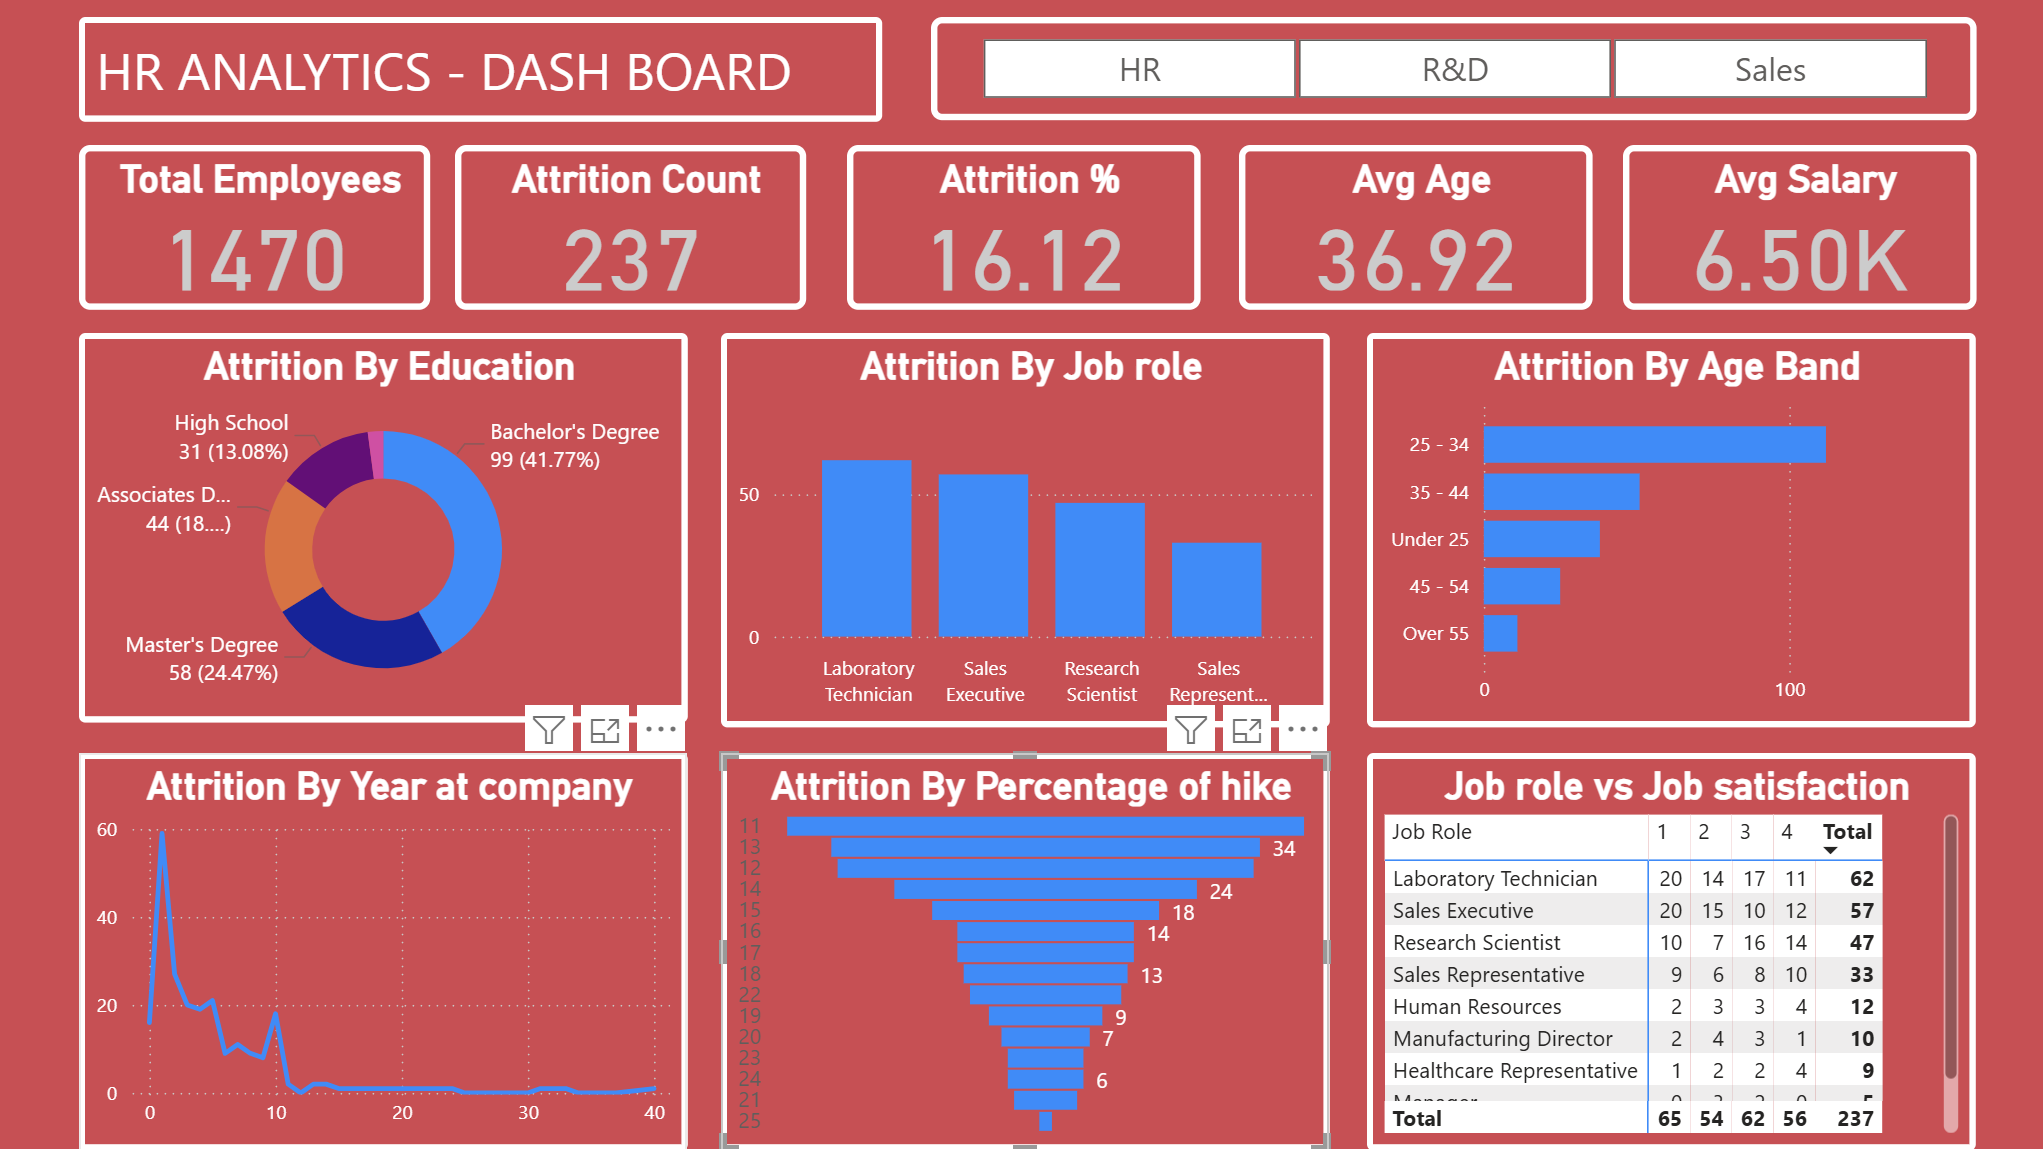

What the dashboard file says about the page in this screenshot:
{"tool":"powerbi","page":{"name":"Page 1","canvas":[1280,720],"ordinal":0},"visuals":[{"type":"card","title":"Total Employees","fields":{"Values":["Sum(Data.Employee Count)"]},"box":[49.7,90.8,219.3,102.8],"z":0},{"type":"card","title":"Attrition Count","fields":{"Values":["Sum(Data.CF_attrition count)"]},"box":[284.4,90.8,219.3,102.8],"z":1000},{"type":"card","title":"Attrition %","fields":{"Values":["Data.Attr_per"]},"box":[529.5,90.8,221,102.8],"z":2000},{"type":"card","title":"Avg Age","fields":{"Values":["Avg(Data.Age)"]},"box":[774.5,90.8,221,102.8],"z":3000},{"type":"card","title":"Avg Salary","fields":{"Values":["Avg(Data.Monthly Income)"]},"box":[1014.4,90.8,221,102.8],"z":4000},{"type":"donutChart","title":"Attrition By Education","fields":{"Category":["Data.Education"],"Y":["Sum(Data.CF_attrition count)"]},"box":[49.7,209,380.4,243.3],"z":5000},{"type":"columnChart","title":"Attrition By Job role","fields":{"Category":["Data.Job Role"],"Y":["Sum(Data.CF_attrition count)"]},"box":[450.7,209,380.4,246.7],"z":6000},{"type":"barChart","title":"Attrition By Age Band","fields":{"Y":["Sum(Data.CF_attrition count)"],"Category":["Data.CF_age band"]},"box":[855,209,380.4,246.7],"z":7000},{"type":"lineChart","title":"Attrition By Year at company","fields":{"Y":["Sum(Data.CF_attrition count)"],"Category":["Data.Years At Company"]},"box":[49.7,471.2,380.4,248.5],"z":8000},{"type":"funnel","title":"Attrition By Percentage of hike","fields":{"Category":["Data.Percent Salary Hike"],"Y":["Sum(Data.CF_attrition count)"]},"box":[450.7,471.2,380.4,248.5],"z":9000},{"type":"pivotTable","title":"Job role vs Job satisfaction","fields":{"Values":["Sum(Data.CF_attrition count)"],"Rows":["Data.Job Role"],"Columns":["Data.Job Satisfaction"]},"box":[855,471.2,380.4,248.5],"z":10000},{"type":"textbox","box":[50.4,11.2,502.2,65.7],"z":11000},{"type":"slicer","title":"Total Employees","fields":{"Values":["Data.Department"]},"box":[581.9,11.2,653.3,64.3],"z":12000}]}

Visuals, with their boxes in screenshot pixels (x1, y1, x2, y2), scaled from the page's 1280x720 canvas onto the 2043x1149 screenshot:
"Total Employees" card: rect(79, 145, 429, 309)
"Attrition Count" card: rect(454, 145, 804, 309)
"Attrition %" card: rect(845, 145, 1198, 309)
"Avg Age" card: rect(1236, 145, 1589, 309)
"Avg Salary" card: rect(1619, 145, 1972, 309)
"Attrition By Education" donutChart: rect(79, 334, 686, 722)
"Attrition By Job role" columnChart: rect(719, 334, 1327, 727)
"Attrition By Age Band" barChart: rect(1365, 334, 1972, 727)
"Attrition By Year at company" lineChart: rect(79, 752, 686, 1148)
"Attrition By Percentage of hike" funnel: rect(719, 752, 1327, 1148)
"Job role vs Job satisfaction" pivotTable: rect(1365, 752, 1972, 1148)
textbox: rect(80, 18, 882, 123)
"Total Employees" slicer: rect(929, 18, 1971, 120)
